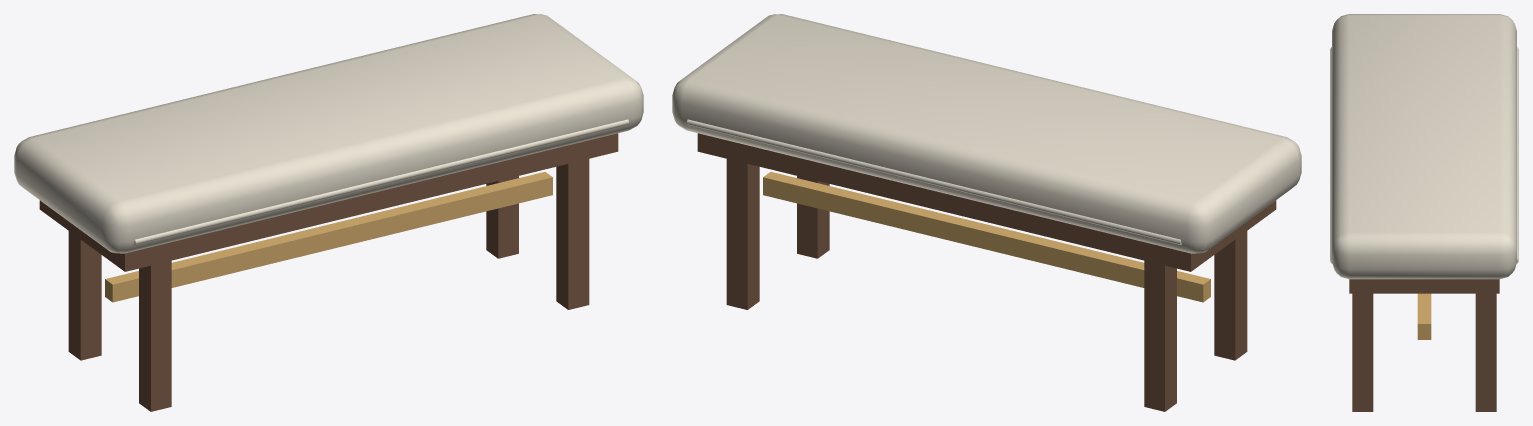
File: bb_set_hohbench.fbx
3 renders of one model, left to right at view 1: azimuth 30°, elevation 25°; view 2: azimuth 150°, elevation 25°; view 3: azimuth 270°, elevation 25°, orthographic. The views are drawn at different scales.
Parts seen in each view (by area): view 1: bb_set_hohbench; view 2: bb_set_hohbench; view 3: bb_set_hohbench.
Boxes of the visible parts, x1=… form: bb_set_hohbench: x1=14, y1=14, x2=643, y2=411; bb_set_hohbench: x1=672, y1=14, x2=1301, y2=411; bb_set_hohbench: x1=1330, y1=14, x2=1518, y2=411.
Size of the model in its own units: 1.42 by 0.555 by 0.488.
